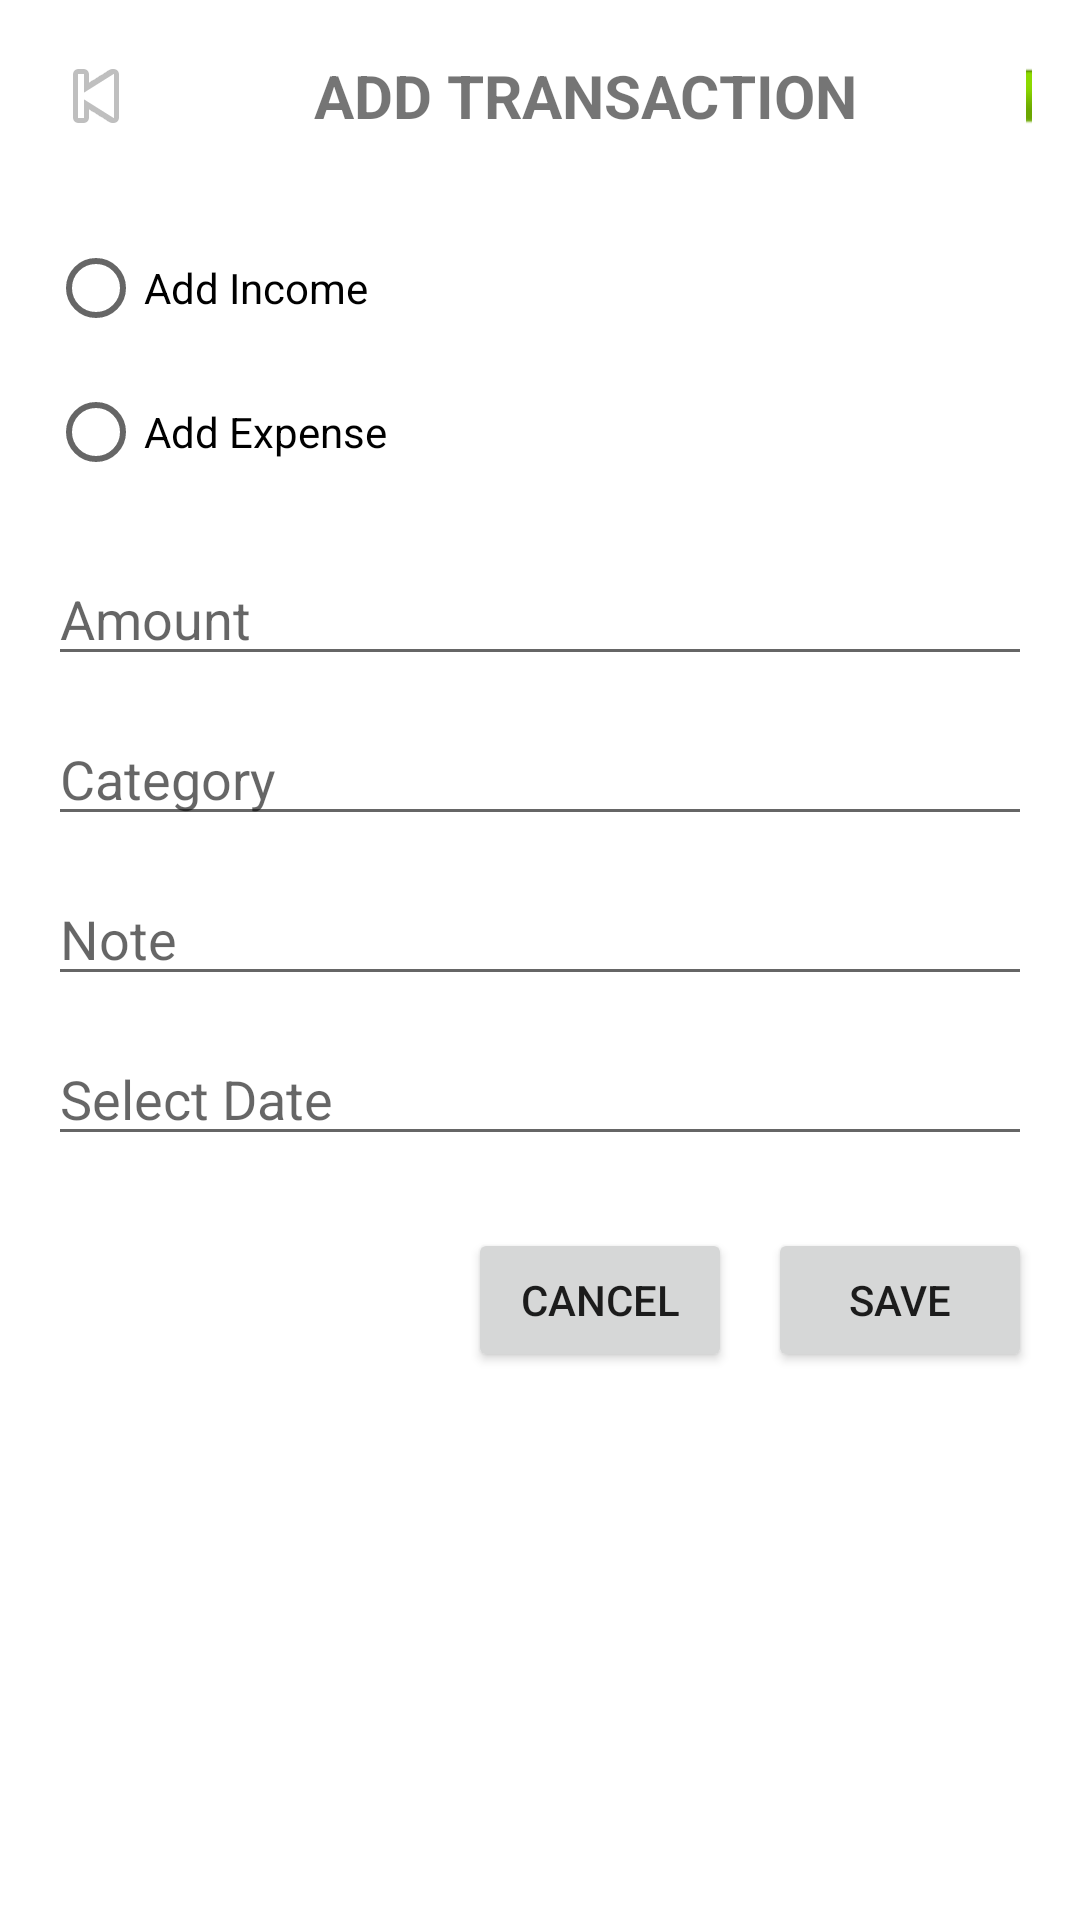

Icon bounding boxes for this 1080x1920 phone screenshot, format bbox=(x1, y1, x2, y2):
Back: bbox=(73, 69, 119, 123)
